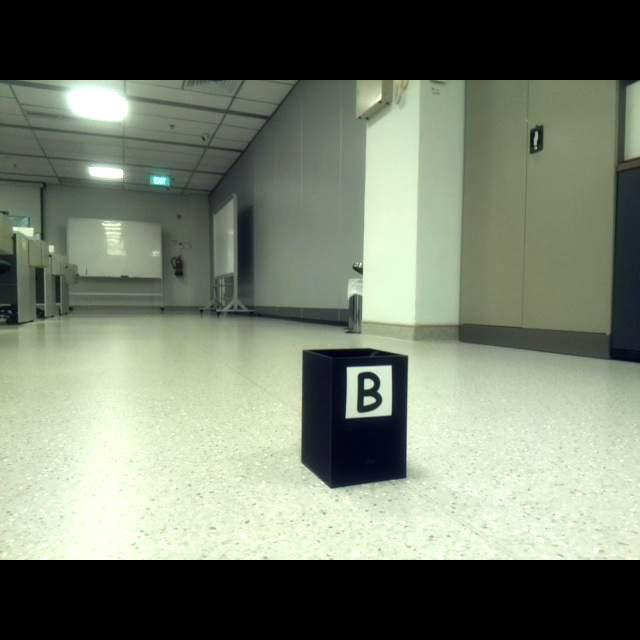B: (356, 371, 382, 414)
